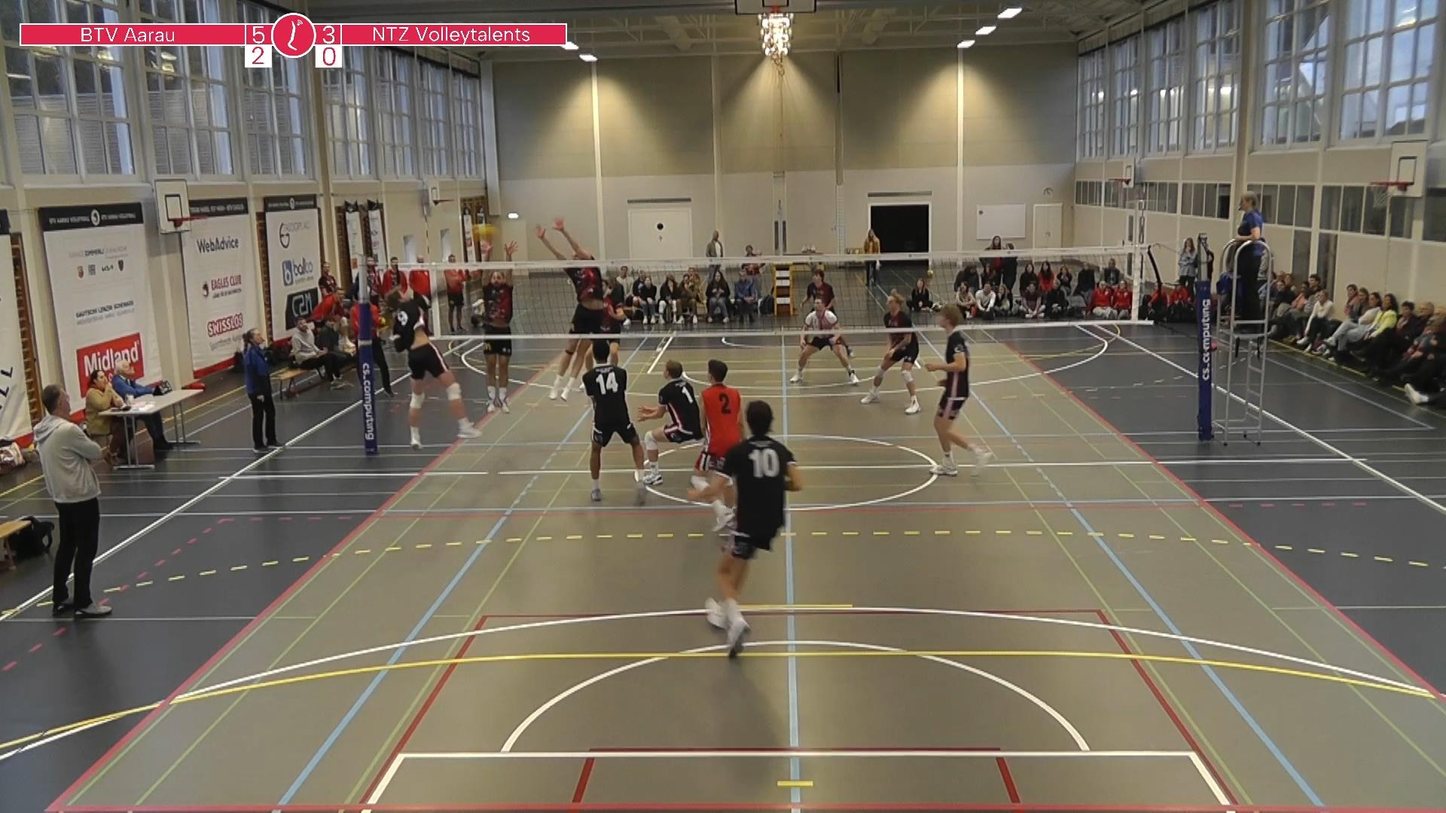attacco: (379, 274, 497, 450)
muro: (537, 212, 611, 406), (464, 223, 527, 416)
